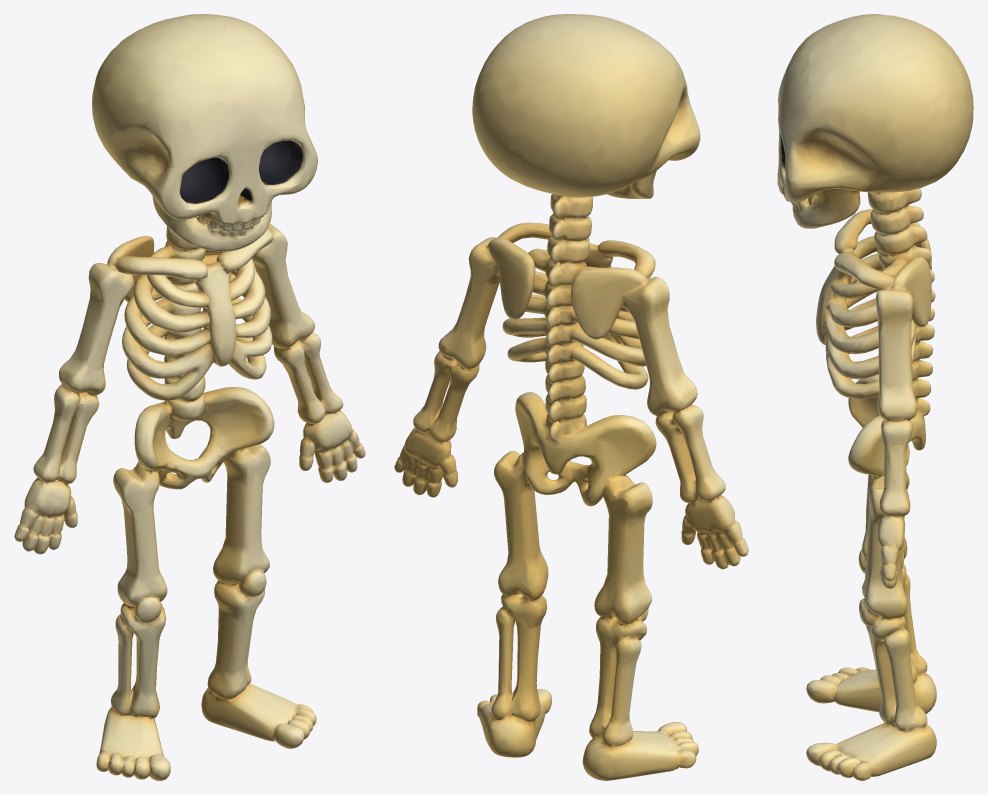
File: esqueleto-30k.glb
3 renders of one model, left to right at view 1: azimuth 30°, elevation 25°; view 2: azimuth 150°, elevation 25°; view 3: azimuth 270°, elevation 25°, orthographic. The views are drawn at different scales.
Parts seen in each view (by area): view 1: corpo; view 2: corpo; view 3: corpo.
Boxes of the visible parts, box(x1,y1,x2,y2) form: corpo: box(14, 14, 365, 780); corpo: box(394, 14, 748, 780); corpo: box(777, 14, 973, 780).
Bounding box in the file's own units: 0.4984 × 0.9786 × 0.2464.
Materials: 1 (1 with a texture image).
